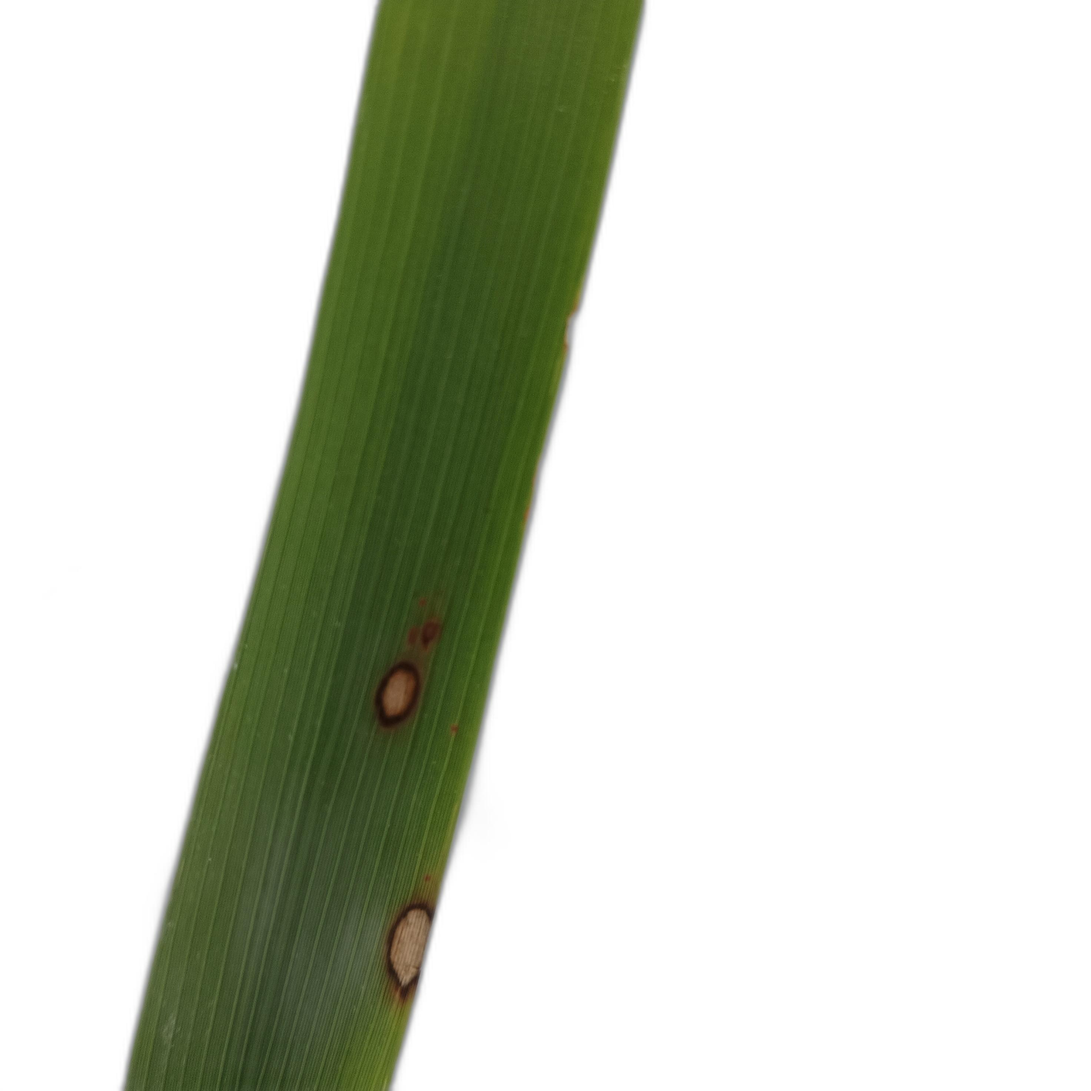LEAF BLAST: (382, 895, 436, 1009), (373, 653, 426, 733), (420, 617, 442, 652)
